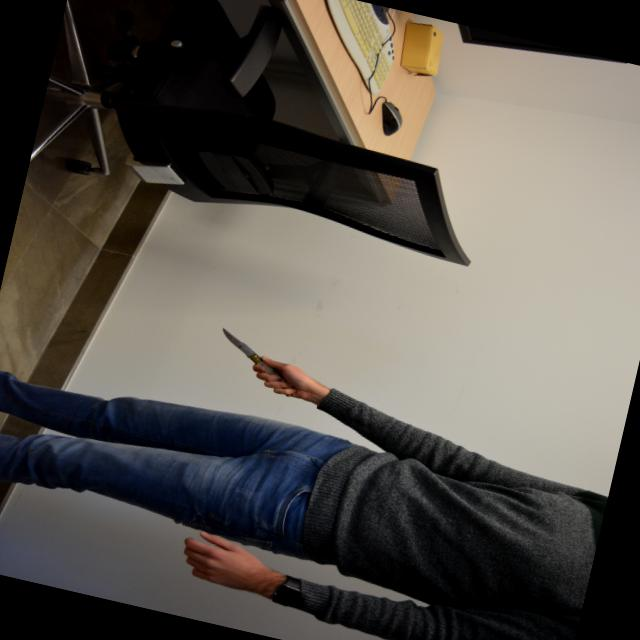knife: (204, 324, 306, 399)
